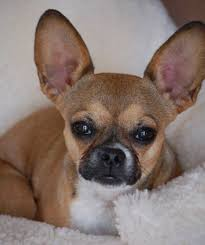chihuahua: (7, 5, 205, 206)
